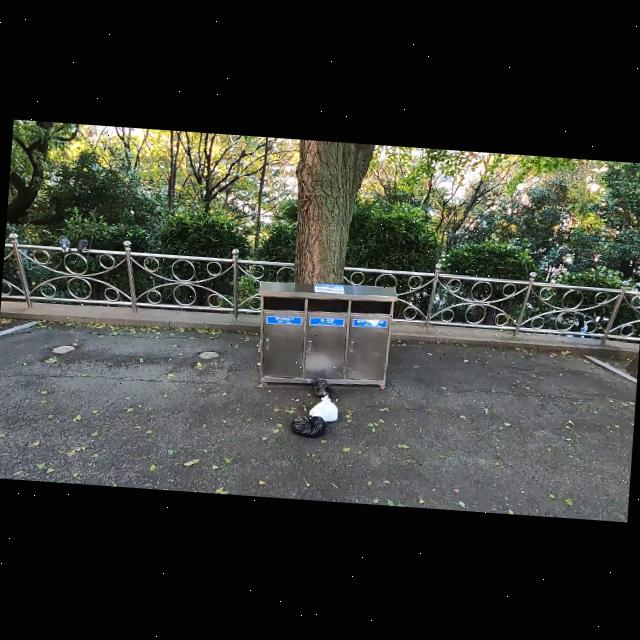trash: (290, 410, 328, 438), (304, 392, 336, 422), (304, 376, 332, 400)
